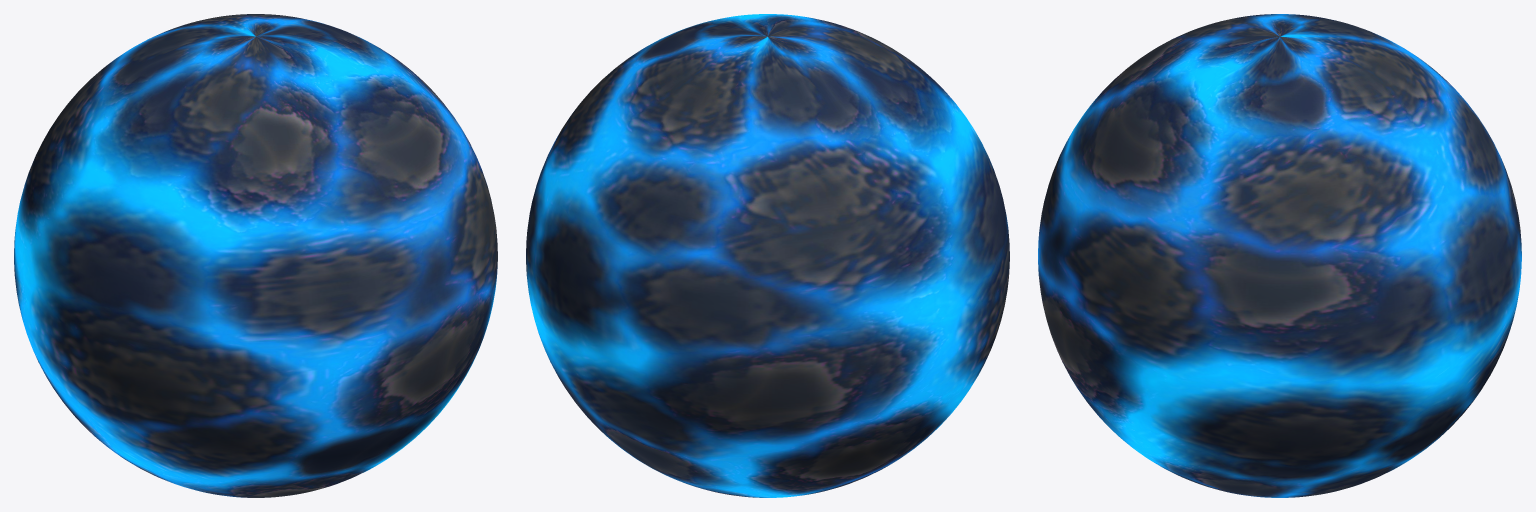
Rendered from elemento_Azul.glb.
The picture shows the model from 3 angles, left to right: view 1: azimuth 30°, elevation 25°; view 2: azimuth 150°, elevation 25°; view 3: azimuth 270°, elevation 25°; orthographic projection.
Parts seen in each view (by area): view 1: Sphere001; view 2: Sphere001; view 3: Sphere001.
Boxes of the visible parts, x1,y1,x2,y2 form: Sphere001: (14, 14, 497, 497); Sphere001: (526, 14, 1009, 497); Sphere001: (1038, 14, 1521, 497).
Size of the model in its own units: 95.93 by 95.95 by 95.92.
Materials: 1 (1 with a texture image).
